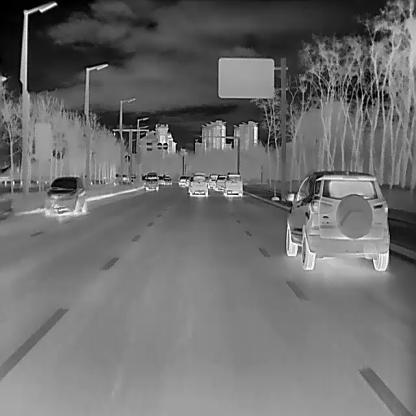car: (286, 169, 390, 270), (44, 176, 86, 214), (223, 171, 242, 196), (188, 175, 208, 196), (144, 171, 159, 189), (214, 175, 225, 190), (207, 173, 218, 187), (178, 175, 187, 186), (162, 174, 171, 184)
